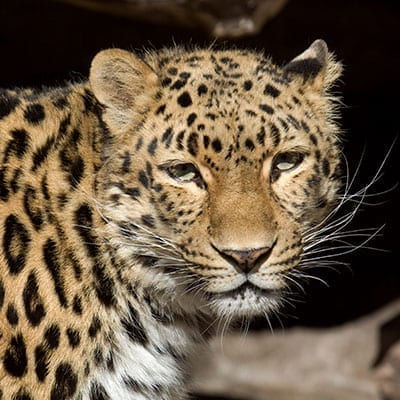amur_leopard: (57, 38, 394, 332)
